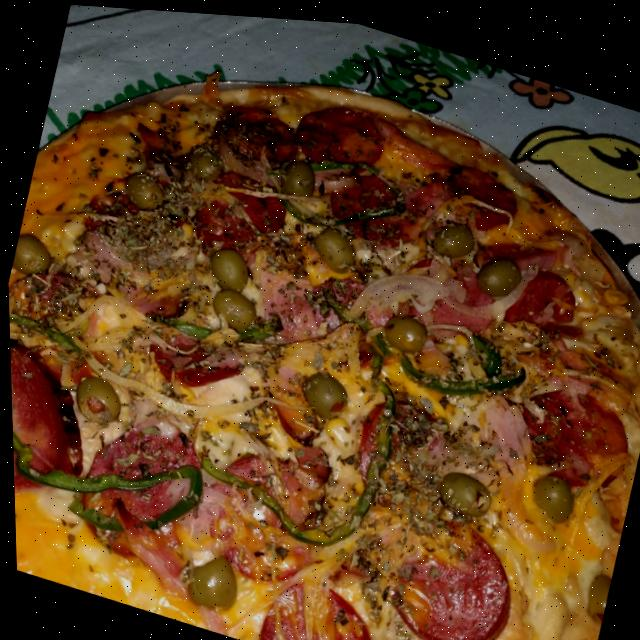green_olives: (172, 538, 248, 618), (426, 451, 495, 518), (199, 273, 265, 337), (62, 363, 124, 430), (289, 358, 352, 423), (265, 145, 328, 207), (520, 457, 580, 522), (469, 234, 529, 299), (370, 301, 435, 357), (174, 132, 235, 191), (305, 215, 363, 277), (198, 239, 260, 295), (425, 207, 480, 262), (8, 226, 57, 282), (573, 554, 611, 619), (117, 163, 165, 213)
pepperoni: (62, 397, 216, 576), (184, 434, 338, 598), (359, 491, 528, 640), (8, 332, 107, 519), (500, 364, 640, 496), (181, 156, 295, 266), (248, 563, 391, 640), (131, 309, 244, 403), (311, 153, 422, 246), (289, 88, 392, 174), (6, 257, 103, 346), (426, 151, 530, 232), (495, 250, 592, 336), (207, 91, 305, 171), (339, 380, 402, 481)
pizza: (0, 0, 640, 640)
